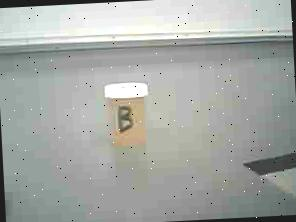Bottle B: (98, 74, 160, 155)
